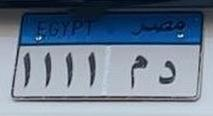1: (85, 49, 98, 91), (21, 49, 34, 90), (61, 51, 75, 89), (40, 51, 53, 89)
daal: (155, 58, 177, 89)
meem: (128, 54, 148, 92)
